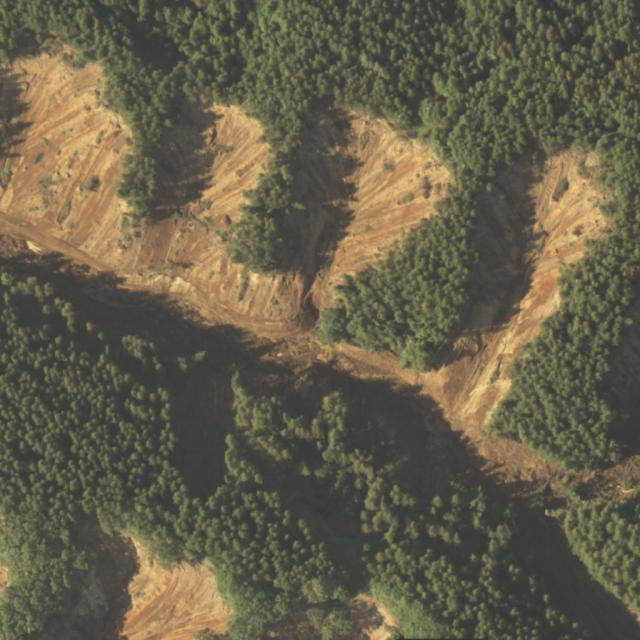landslide: (0, 49, 640, 640), (41, 519, 230, 640)
